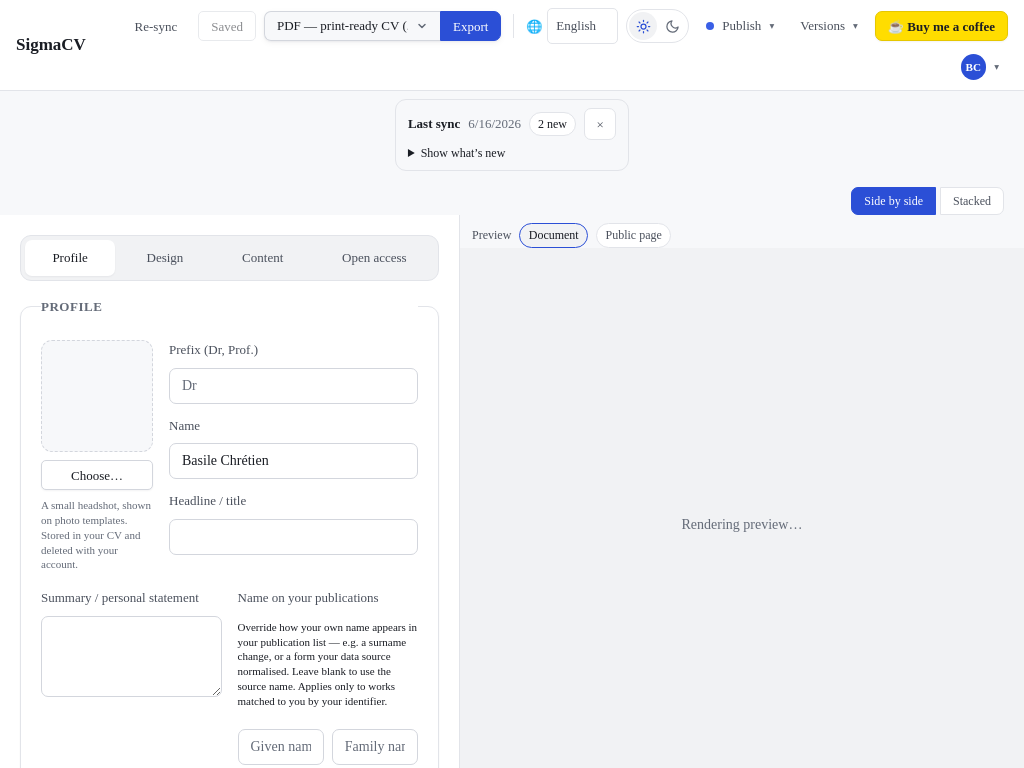
it: CvWorkspace — onboarding prompts show one at a time › advances sync-report → coachmark, then stops (no publish nudge in onboarding)
expect the message "Last sync 6/16/2026 2 new × Show what’s new" is shown: met, box x1=395 y1=99 x2=629 y2=171
Note: sync report → dismiss → coachmark appears
Step 1. Click the button named "Dismiss" → point(600, 124), box x1=584 y1=108 x2=616 y2=140
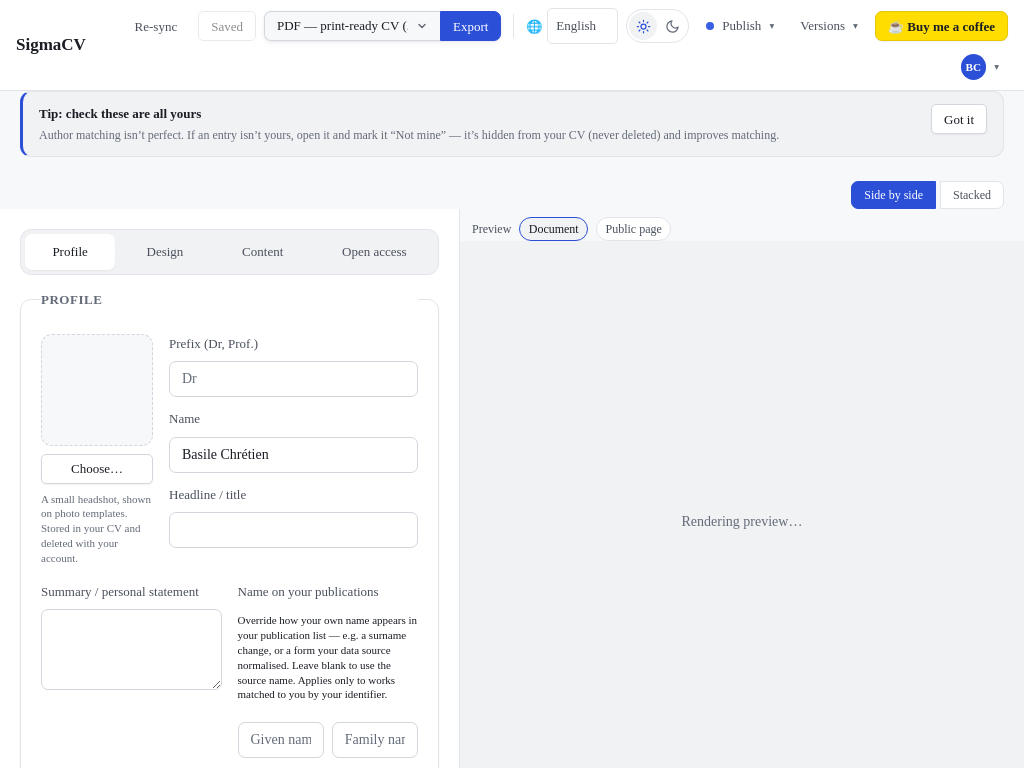
expect the element with class "coachmark" is shown: met, box x1=20 y1=91 x2=1004 y2=156
expect the message with class "sync-report-banner" is gone: met
Step 2. Click the button "Got it" → point(959, 119), box x1=931 y1=104 x2=987 y2=134
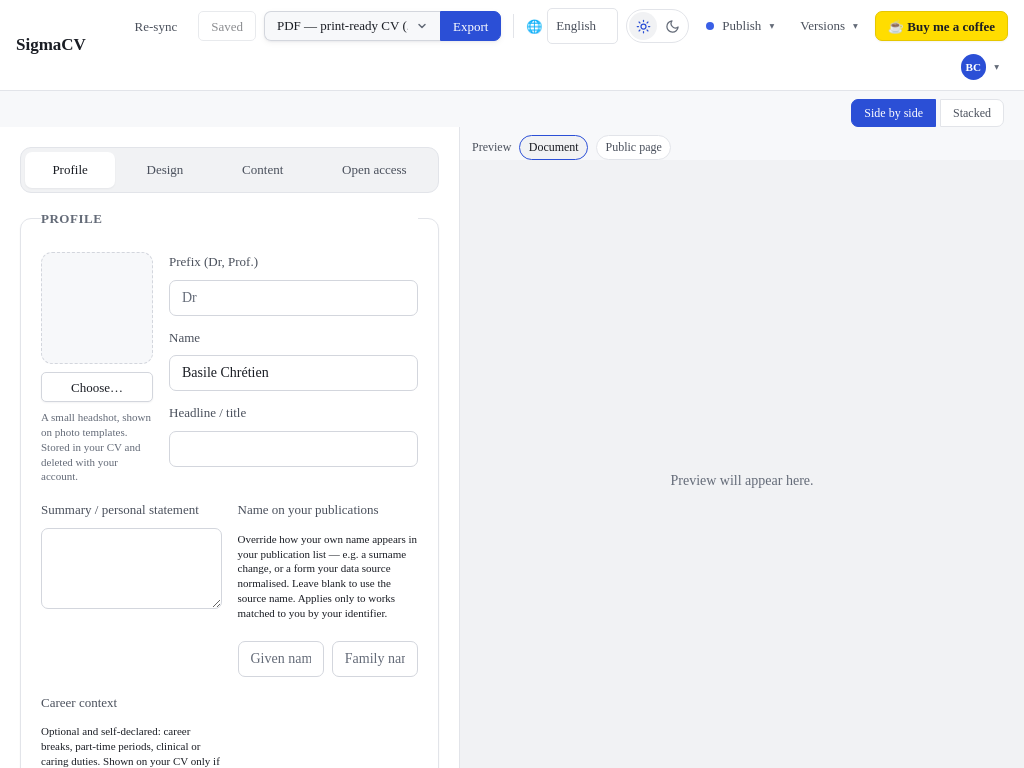
expect the element with class "coachmark" is gone: met
